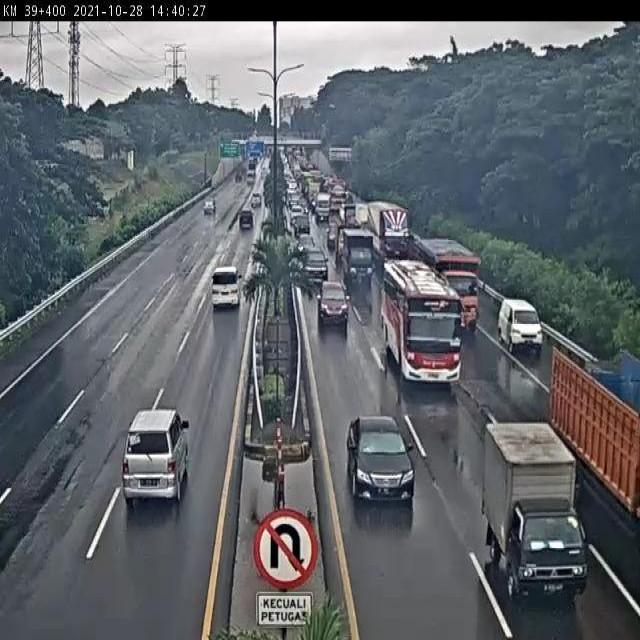big bus: (374, 253, 457, 376)
car: (348, 412, 417, 511), (124, 412, 182, 504), (501, 297, 544, 356), (208, 266, 243, 310), (319, 283, 350, 328), (304, 244, 326, 272), (236, 207, 255, 228)
mid truck: (554, 347, 640, 556), (419, 238, 481, 330)
small truck: (484, 425, 589, 592), (339, 222, 374, 282)
